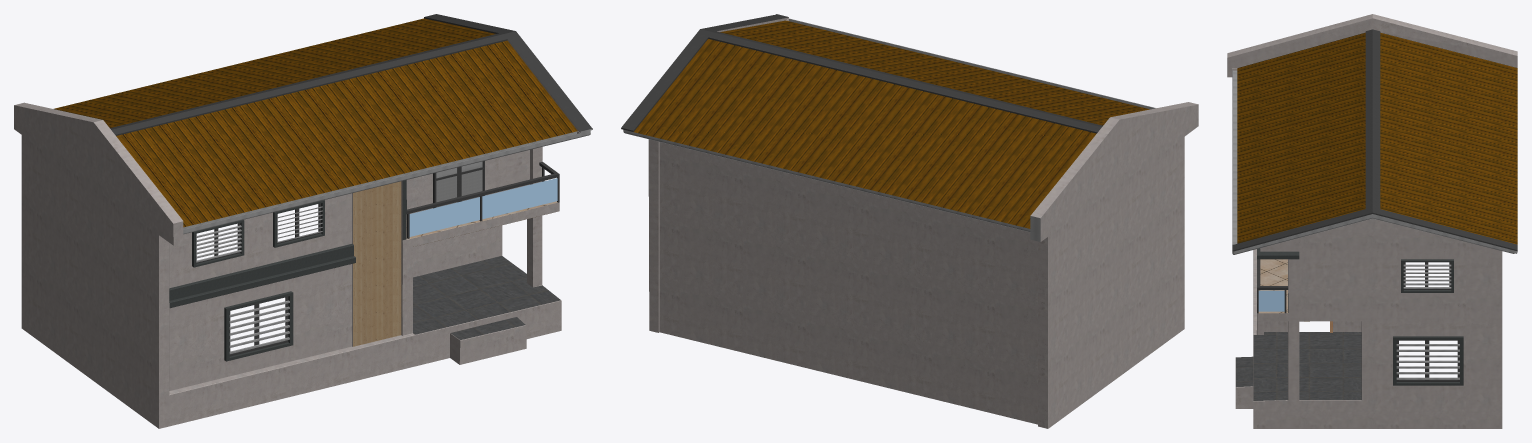
File: bantaygabi-house-05.glb
The picture shows the model from 3 angles, left to right: view 1: azimuth 30°, elevation 25°; view 2: azimuth 150°, elevation 25°; view 3: azimuth 270°, elevation 25°; orthographic projection. The views are drawn at different scales.
Visible parts, largest first — view 1: House05Static_LOD0; view 2: House05Static_LOD0; view 3: House05Static_LOD0.
Boxes of the visible parts, x1,y1,x2,y2 form: House05Static_LOD0: (14,14,592,428); House05Static_LOD0: (621,14,1198,428); House05Static_LOD0: (1227,14,1517,428).
Bounding box in the file's own units: 12.59 × 7.37 × 8.22.
Materials: 12 (11 with a texture image).
